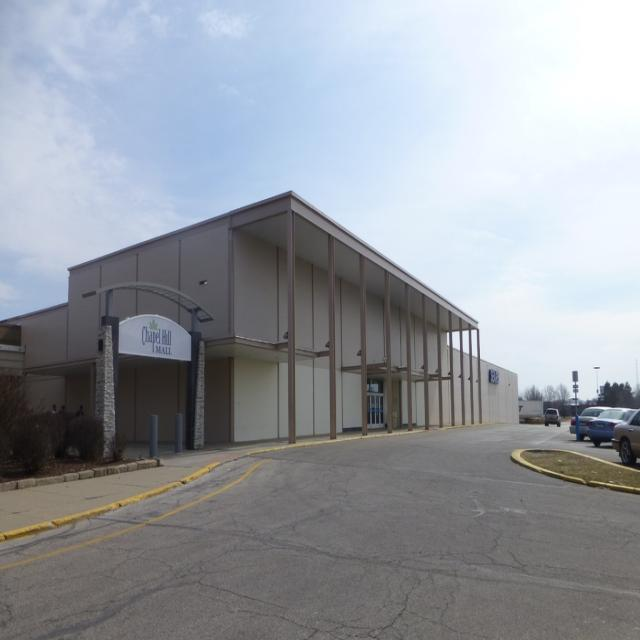car: (612, 408, 639, 468), (588, 410, 628, 448), (568, 408, 606, 438), (542, 404, 562, 427)
